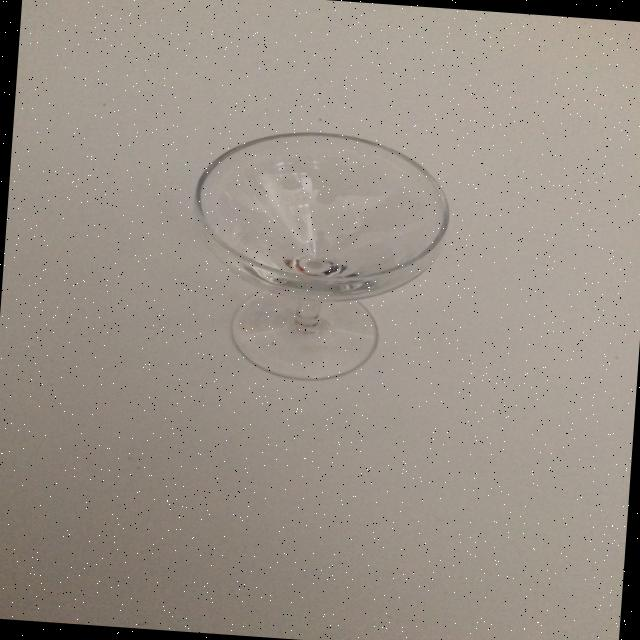glass: (180, 122, 454, 389)
